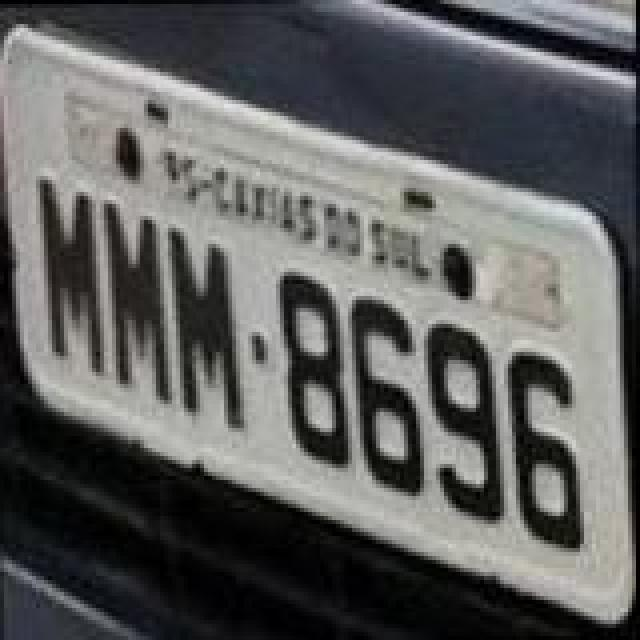6: (420, 314, 504, 526), (504, 348, 588, 556), (350, 288, 430, 496)
8: (276, 266, 352, 470)
M: (164, 222, 248, 434), (98, 198, 170, 410), (34, 170, 106, 374)
